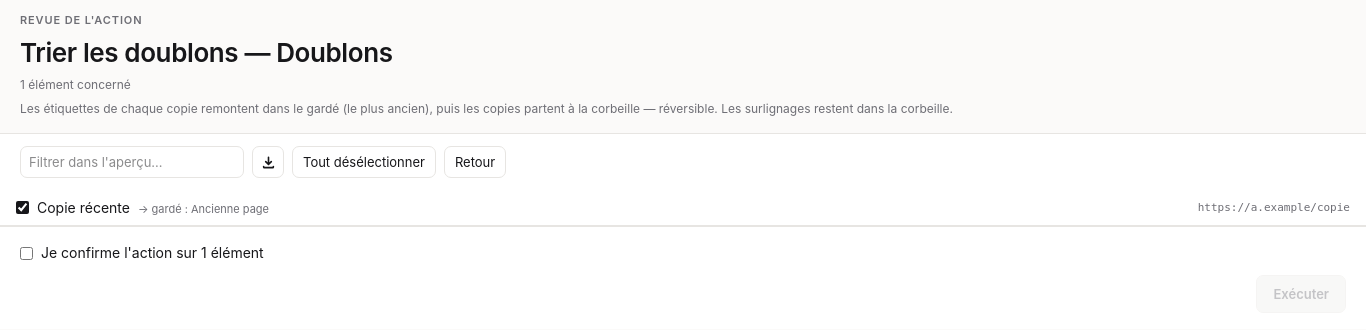
ReviewPage — le terme du job dedupe › des étiquettes non fusionnées : le déficit est dit — les copies sont parties
The width and height of the screenshot is (1366, 330).
Click the checkbox labelled "Je confirme l'action sur 1 élément": (26, 253) [20,246,33,260]
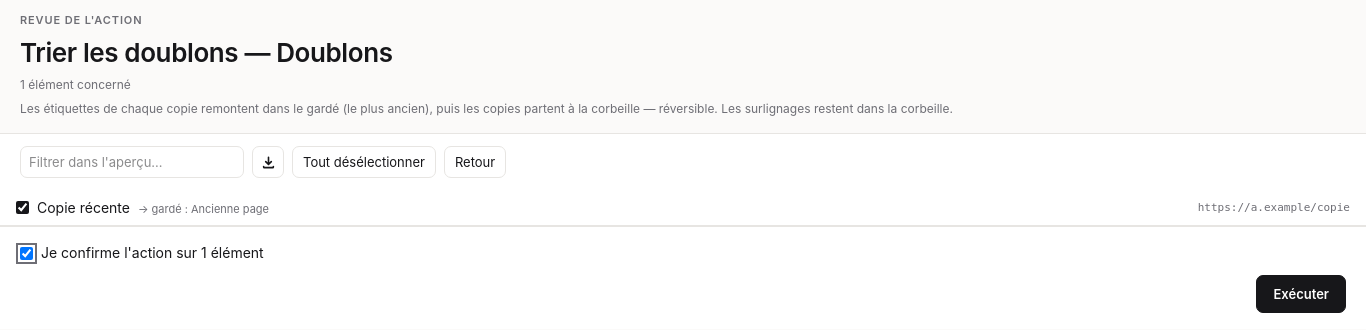
Click the button "Exécuter": (1301, 294) [1256,275,1346,313]
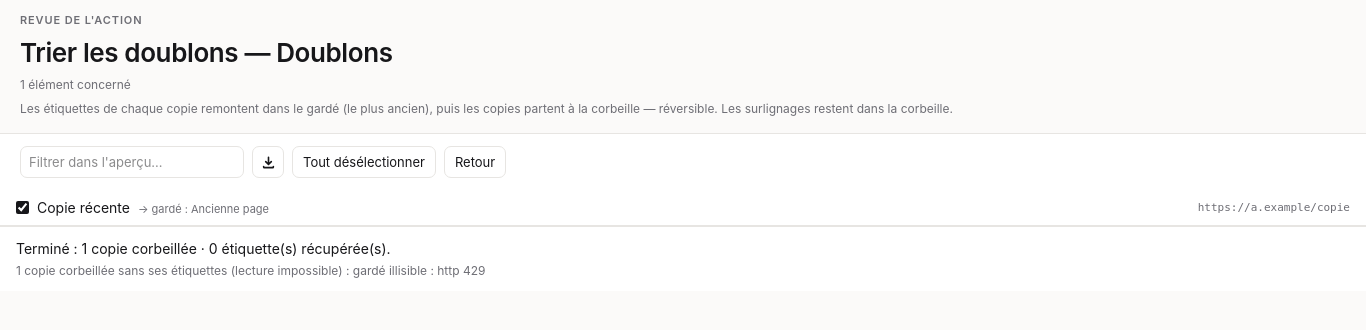
Now the text "gardé illisible : http 429" is shown, box [16,263,486,278]
